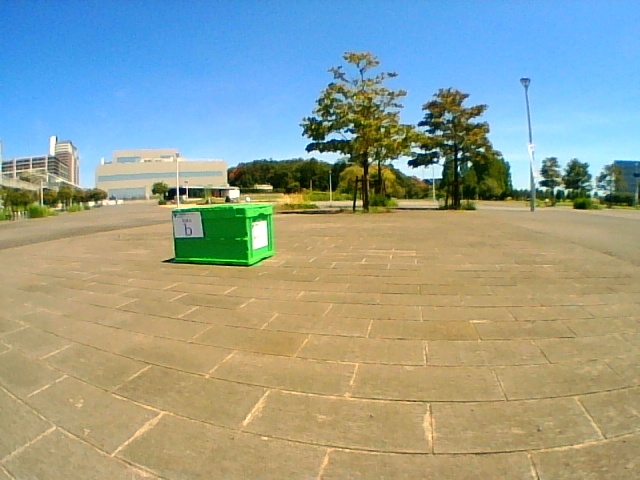green_box: (173, 205, 274, 265)
tag_b: (175, 212, 201, 236)
